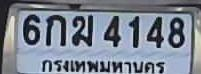1: (128, 15, 138, 47)
4: (146, 16, 163, 47), (103, 15, 120, 46)
6: (22, 13, 39, 44)
8: (167, 16, 184, 47)
A01: (45, 14, 65, 45)
A06: (71, 15, 92, 46)
BKK: (36, 55, 168, 74)
